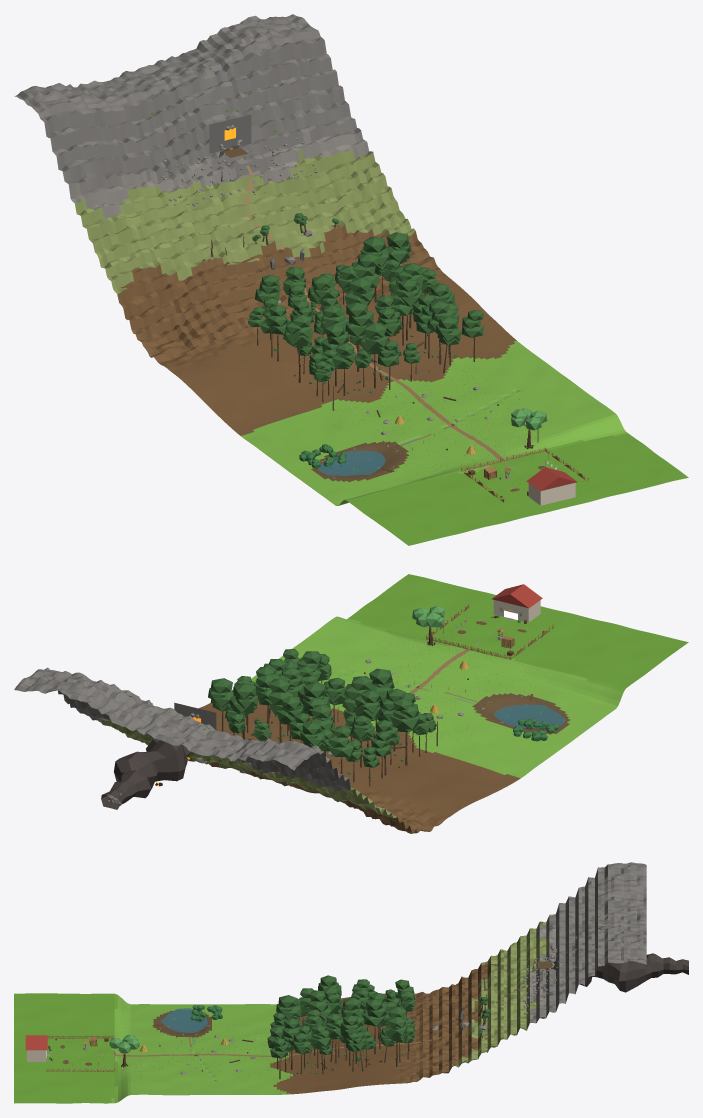
File: krajina.glb
3 renders of one model, top to bottom at view 1: azimuth 30°, elevation 25°; view 2: azimuth 150°, elevation 25°; view 3: azimuth 270°, elevation 25°, orthographic. The views are drawn at different scales.
Visible parts, largest first — view 1: T_teren_hlavni, C_hladina, E_jeskyne_stena, P_cesta_hlina; view 2: T_teren_hlavni, F_jeskyne_tunel, C_hladina, D_borovice_020_koruna, D_borovice_000_koruna, A_dum_strecha, D_borovice_023_koruna, D_borovice_051_koruna, D_borovice_063_koruna, A_dum_zed, D_borovice_037_koruna, D_borovice_049_koruna (+11 smaller); view 3: T_teren_hlavni, F_jeskyne_tunel, C_hladina, P_cesta_hlina, D_borovice_058_koruna, D_borovice_048_koruna, D_borovice_049_koruna, D_borovice_051_koruna, D_borovice_059_koruna.
Boxes of the visible parts, x1=… form: T_teren_hlavni: x1=14, y1=14, x2=688, y2=545; C_hladina: x1=318, y1=450, x2=385, y2=475; E_jeskyne_stena: x1=209, y1=114, x2=251, y2=153; P_cesta_hlina: x1=230, y1=148, x2=505, y2=461; T_teren_hlavni: x1=14, y1=574, x2=688, y2=833; F_jeskyne_tunel: x1=101, y1=738, x2=190, y2=809; C_hladina: x1=494, y1=704, x2=565, y2=728; D_borovice_020_koruna: x1=390, y1=698, x2=420, y2=732; D_borovice_000_koruna: x1=229, y1=683, x2=257, y2=715; A_dum_strecha: x1=491, y1=584, x2=542, y2=608; D_borovice_023_koruna: x1=353, y1=690, x2=381, y2=720; D_borovice_051_koruna: x1=208, y1=678, x2=233, y2=711; D_borovice_063_koruna: x1=302, y1=682, x2=330, y2=716; A_dum_zed: x1=493, y1=600, x2=540, y2=622; D_borovice_037_koruna: x1=328, y1=726, x2=353, y2=756; D_borovice_049_koruna: x1=342, y1=676, x2=372, y2=712; T_teren_hlavni: x1=14, y1=862, x2=646, y2=1103; F_jeskyne_tunel: x1=551, y1=953, x2=688, y2=992; C_hladina: x1=161, y1=1008, x2=208, y2=1032; P_cesta_hlina: x1=114, y1=966, x2=551, y2=1056; D_borovice_058_koruna: x1=362, y1=999, x2=387, y2=1026; D_borovice_048_koruna: x1=276, y1=995, x2=300, y2=1020; D_borovice_049_koruna: x1=308, y1=990, x2=332, y2=1019; D_borovice_051_koruna: x1=385, y1=1017, x2=406, y2=1040; D_borovice_059_koruna: x1=310, y1=1025, x2=331, y2=1049.
Size of what is drawn, in the model's own units: 80 by 53.53 by 208.
